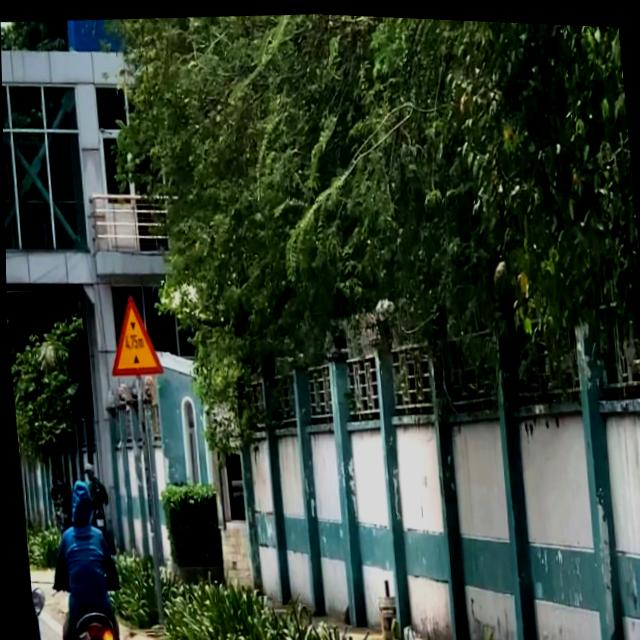Chieu cao an toan: (102, 289, 163, 377)
